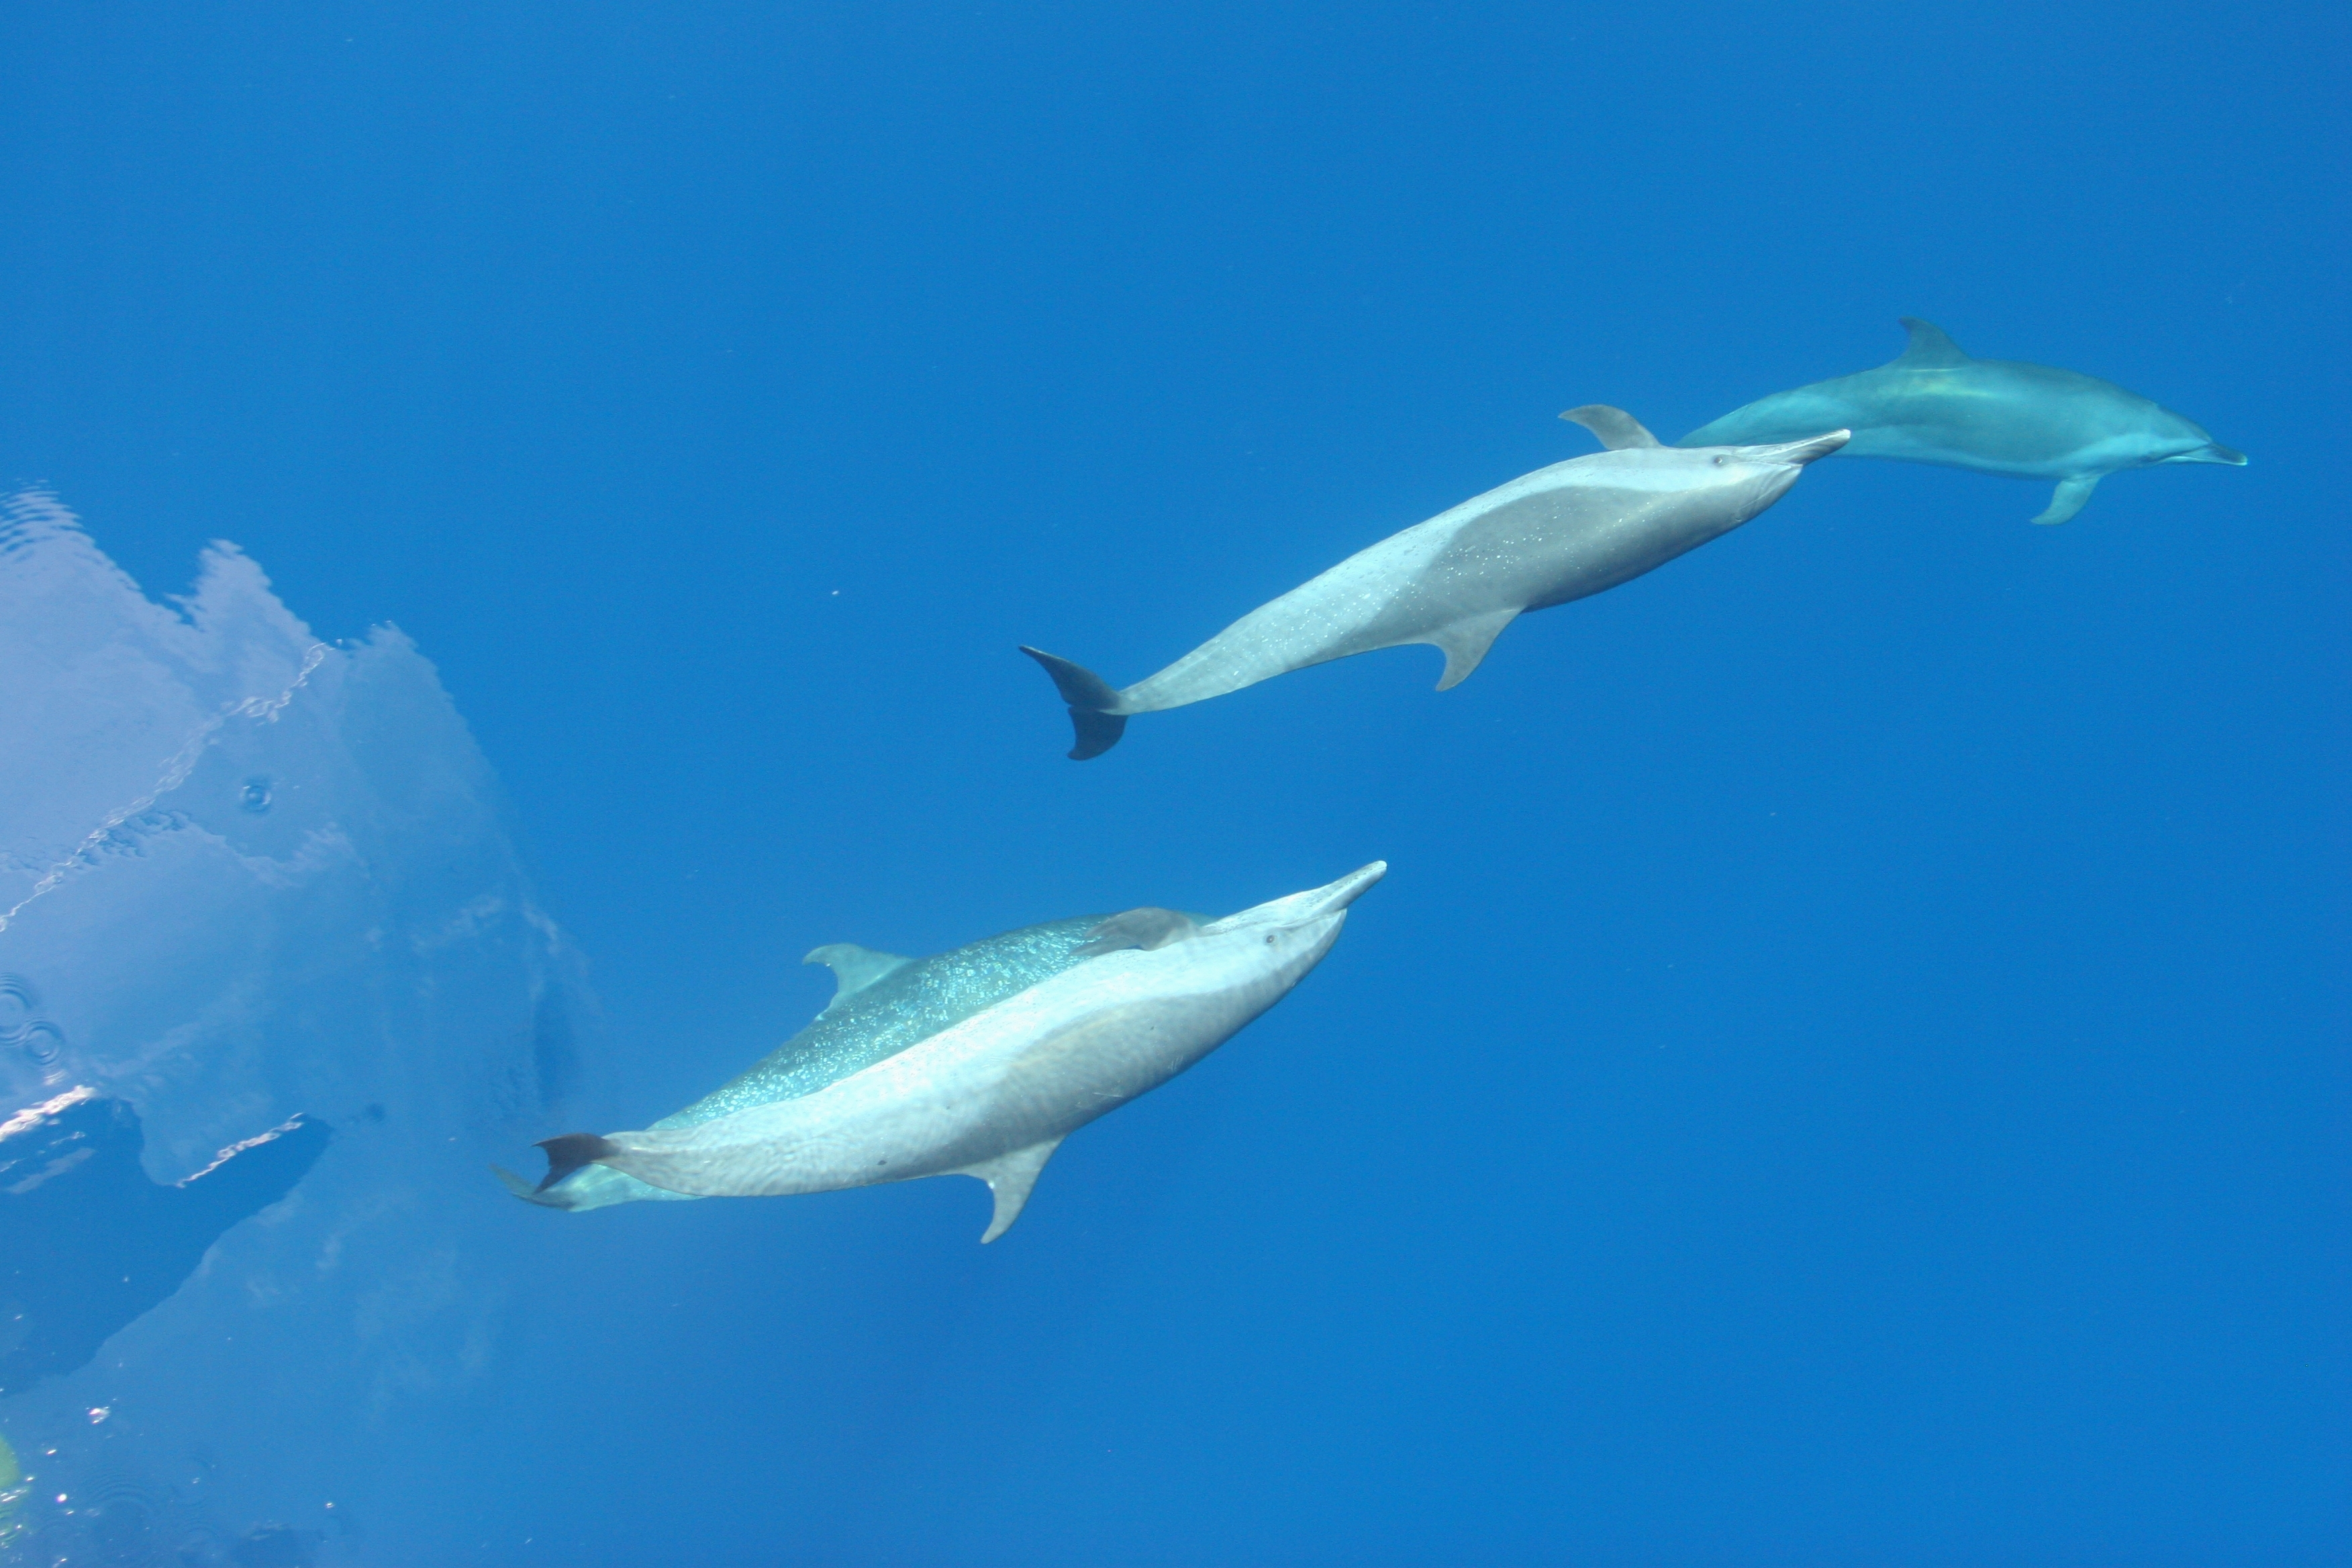dolphin: (521, 845, 1393, 1225), (1024, 401, 1850, 753), (1675, 317, 2250, 535)
